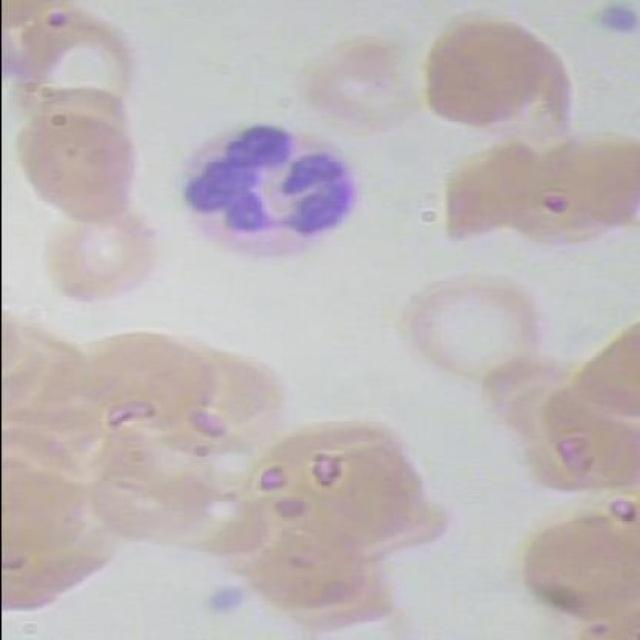Platelets: (582, 0, 638, 43), (205, 584, 249, 622)
RBC: (386, 256, 548, 392), (264, 398, 425, 534), (414, 4, 561, 148), (424, 132, 561, 258), (509, 503, 638, 631), (28, 202, 172, 312), (82, 326, 226, 436), (89, 442, 233, 552), (13, 81, 158, 190), (13, 8, 158, 117), (11, 121, 155, 230), (242, 516, 387, 624), (532, 378, 638, 508), (298, 42, 434, 143), (532, 111, 638, 240), (1, 518, 108, 613)
WBC: (172, 108, 366, 283)
